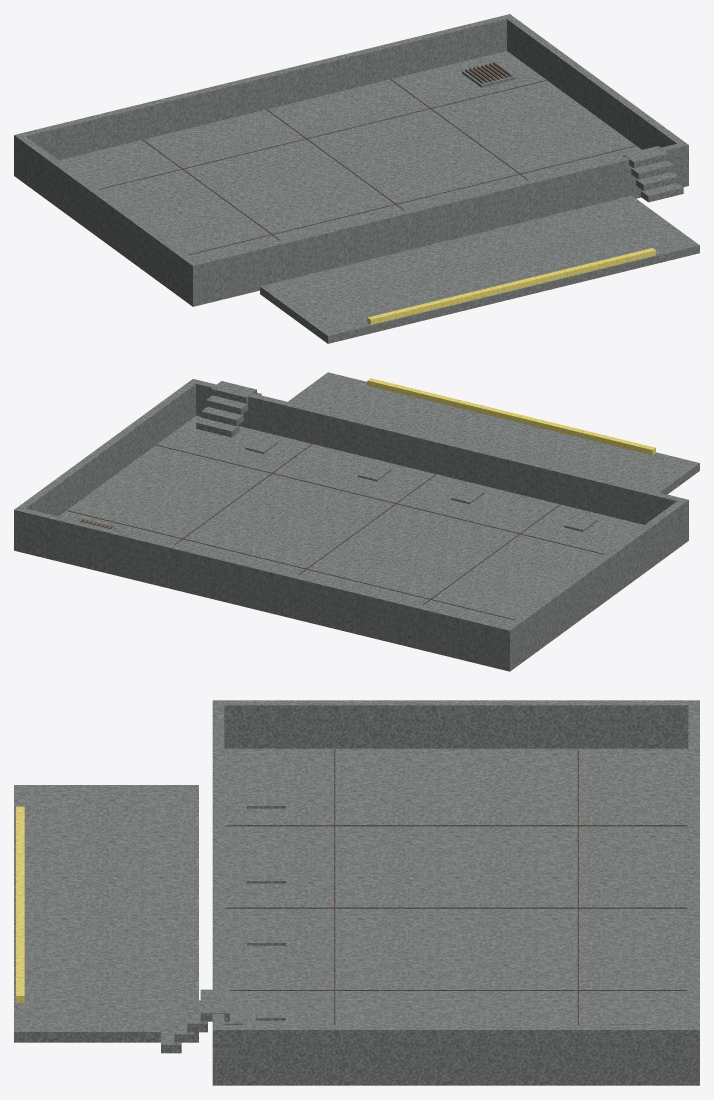
The model's file is PZ_Containment_Bund_16x10m.glb.
3 renders of one model, top to bottom at view 1: azimuth 30°, elevation 25°; view 2: azimuth 150°, elevation 25°; view 3: azimuth 270°, elevation 25°, orthographic. The views are drawn at different scales.
Parts seen in each view (by area): view 1: Bund_Floor_Reinforced_16x10m, Pump_Concrete_Platform_12x3p8m, Bund_North_Wall_16m, Bund_South_Wall_16m, Bund_West_Wall_10m, Bund_East_Wall_10m, Pump_Apron_Island_Curb, Bund_ExpansionJoint_Y_+2.5, Bund_ExpansionJoint_Y_-2.5, Bund_Access_Outside_Step_4, Bund_Access_Outside_Step_3, Bund_Access_Outside_Step_1 (+1 smaller); view 2: Bund_Floor_Reinforced_16x10m, Bund_North_Wall_16m, Bund_South_Wall_16m, Pump_Concrete_Platform_12x3p8m, Bund_West_Wall_10m, Bund_East_Wall_10m, Pump_Apron_Island_Curb, Bund_ExpansionJoint_Y_-2.5, Bund_ExpansionJoint_Y_+2.5, Bund_Access_Inside_Step_4, Bund_Access_Inside_Step_1, Bund_Access_Inside_Step_3 (+1 smaller); view 3: Bund_Floor_Reinforced_16x10m, Pump_Concrete_Platform_12x3p8m, Bund_West_Wall_10m, Bund_East_Wall_10m, Bund_South_Wall_16m, Bund_North_Wall_16m, Pump_Apron_Island_Curb, Bund_ExpansionJoint_X_+0, Bund_ExpansionJoint_X_-4, Bund_Service_Gangway_Pad_0, Bund_Service_Gangway_Pad_1, Bund_Service_Gangway_Pad_2 (+1 smaller).
Boxes of the visible parts, x1,y1,x2,y2 form: Bund_Floor_Reinforced_16x10m: [14, 51, 688, 306]; Pump_Concrete_Platform_12x3p8m: [260, 195, 699, 343]; Bund_North_Wall_16m: [14, 14, 513, 169]; Bund_South_Wall_16m: [188, 142, 688, 297]; Bund_West_Wall_10m: [18, 136, 195, 294]; Bund_East_Wall_10m: [507, 17, 684, 149]; Pump_Apron_Island_Curb: [367, 248, 655, 324]; Bund_ExpansionJoint_Y_+2.5: [98, 80, 546, 189]; Bund_ExpansionJoint_Y_-2.5: [188, 145, 635, 255]; Bund_Access_Outside_Step_4: [626, 148, 669, 168]; Bund_Access_Outside_Step_3: [631, 160, 673, 179]; Bund_Access_Outside_Step_1: [641, 183, 683, 202]; Bund_Floor_Reinforced_16x10m: [14, 415, 688, 671]; Bund_North_Wall_16m: [14, 506, 514, 662]; Bund_South_Wall_16m: [189, 379, 688, 534]; Pump_Concrete_Platform_12x3p8m: [288, 372, 699, 494]; Bund_West_Wall_10m: [507, 501, 684, 658]; Bund_East_Wall_10m: [19, 382, 195, 516]; Pump_Apron_Island_Curb: [367, 378, 655, 455]; Bund_ExpansionJoint_Y_-2.5: [156, 444, 604, 554]; Bund_ExpansionJoint_Y_+2.5: [66, 510, 514, 619]; Bund_Access_Inside_Step_4: [211, 383, 253, 403]; Bund_Access_Inside_Step_1: [196, 418, 239, 437]; Bund_Access_Inside_Step_3: [206, 395, 248, 414]; Bund_Floor_Reinforced_16x10m: [212, 748, 699, 1085]; Pump_Concrete_Platform_12x3p8m: [14, 785, 198, 1042]; Bund_West_Wall_10m: [224, 700, 688, 748]; Bund_East_Wall_10m: [224, 1025, 688, 1073]; Bund_South_Wall_16m: [212, 700, 224, 1073]; Bund_North_Wall_16m: [688, 700, 699, 1073]; Pump_Apron_Island_Curb: [16, 806, 24, 1003]; Bund_ExpansionJoint_X_+0: [225, 907, 687, 908]; Bund_ExpansionJoint_X_-4: [225, 825, 687, 826]; Bund_Service_Gangway_Pad_0: [247, 793, 285, 808]; Bund_Service_Gangway_Pad_1: [247, 868, 285, 883]; Bund_Service_Gangway_Pad_2: [247, 930, 285, 945].
Bounding box in the file's own units: 16 × 1.27 × 14.08.
Materials: 4 (4 with a texture image).
